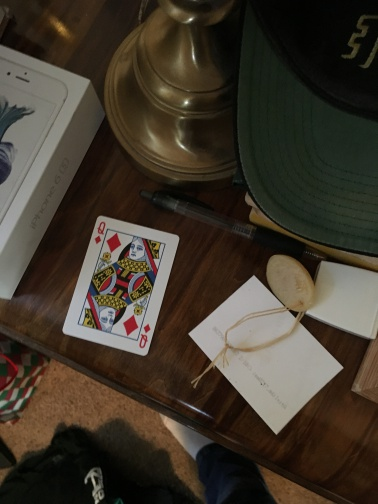queen: (63, 215, 178, 358)
